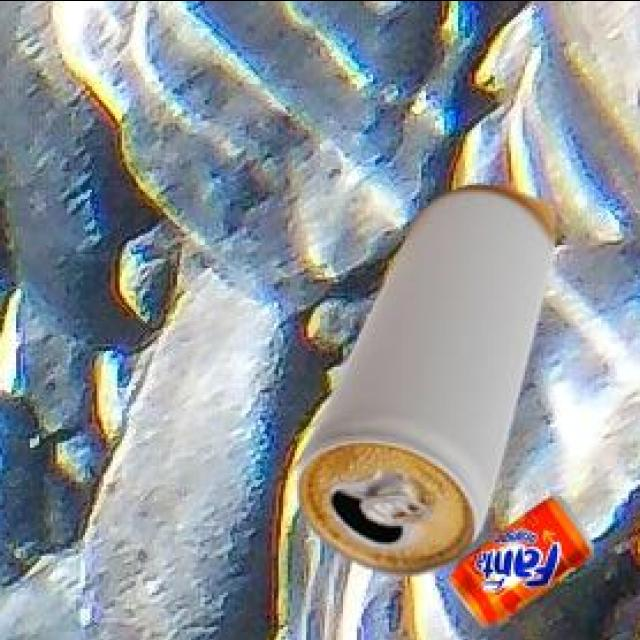logam: (294, 188, 551, 577), (448, 498, 591, 627)
